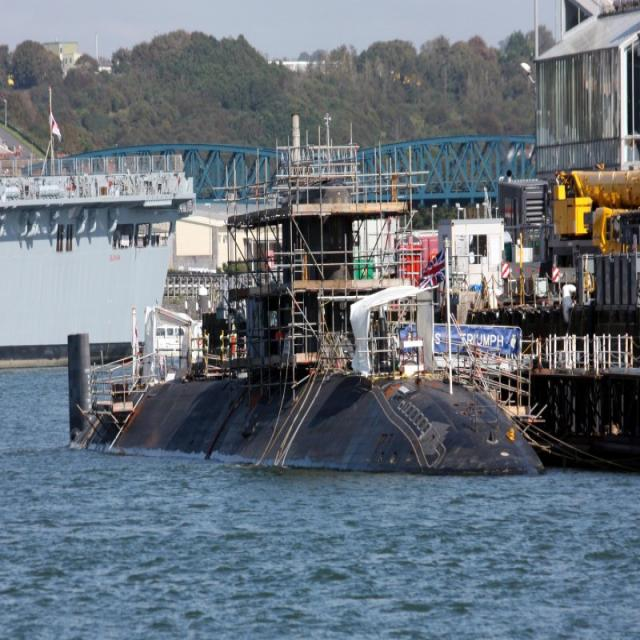submarine: (68, 170, 553, 475)
